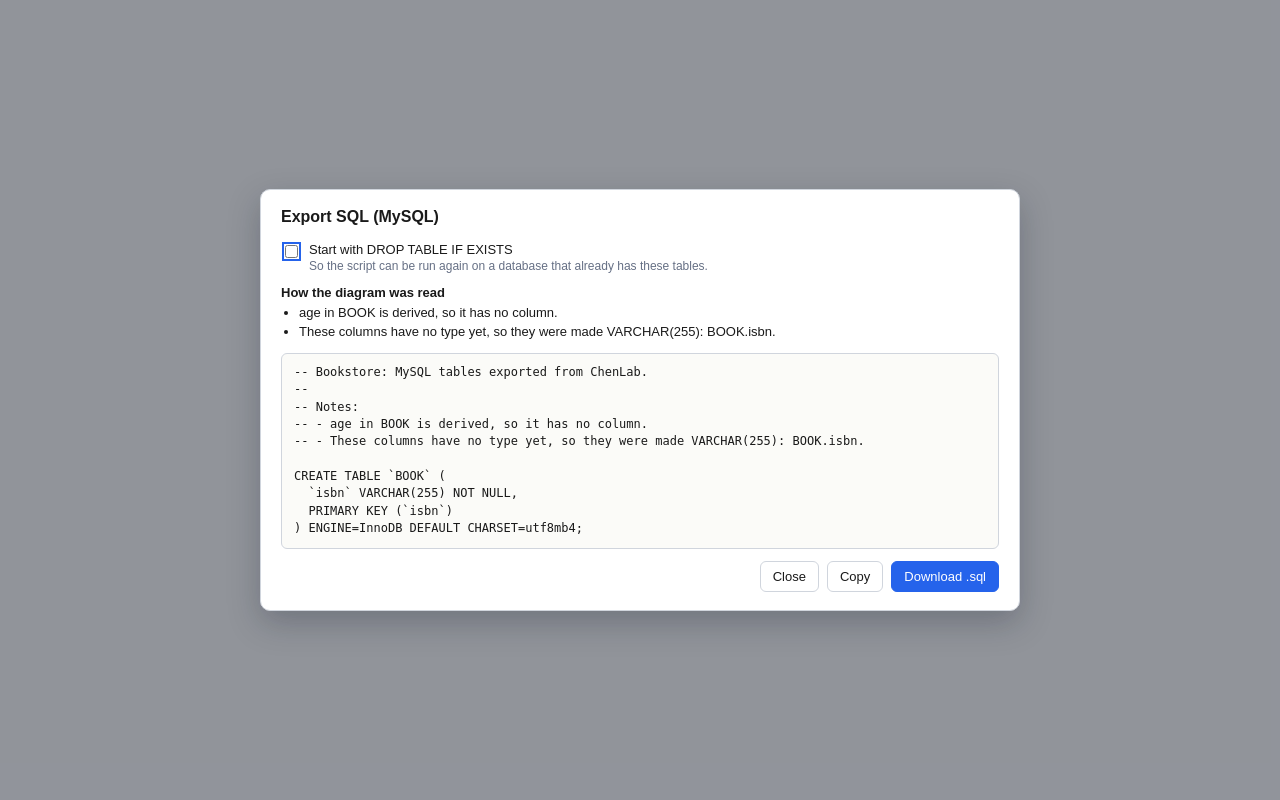
Test: SqlExportDialog › says so when the clipboard refuses
Click the button "Copy" at (855, 576), box [827, 561, 883, 592]
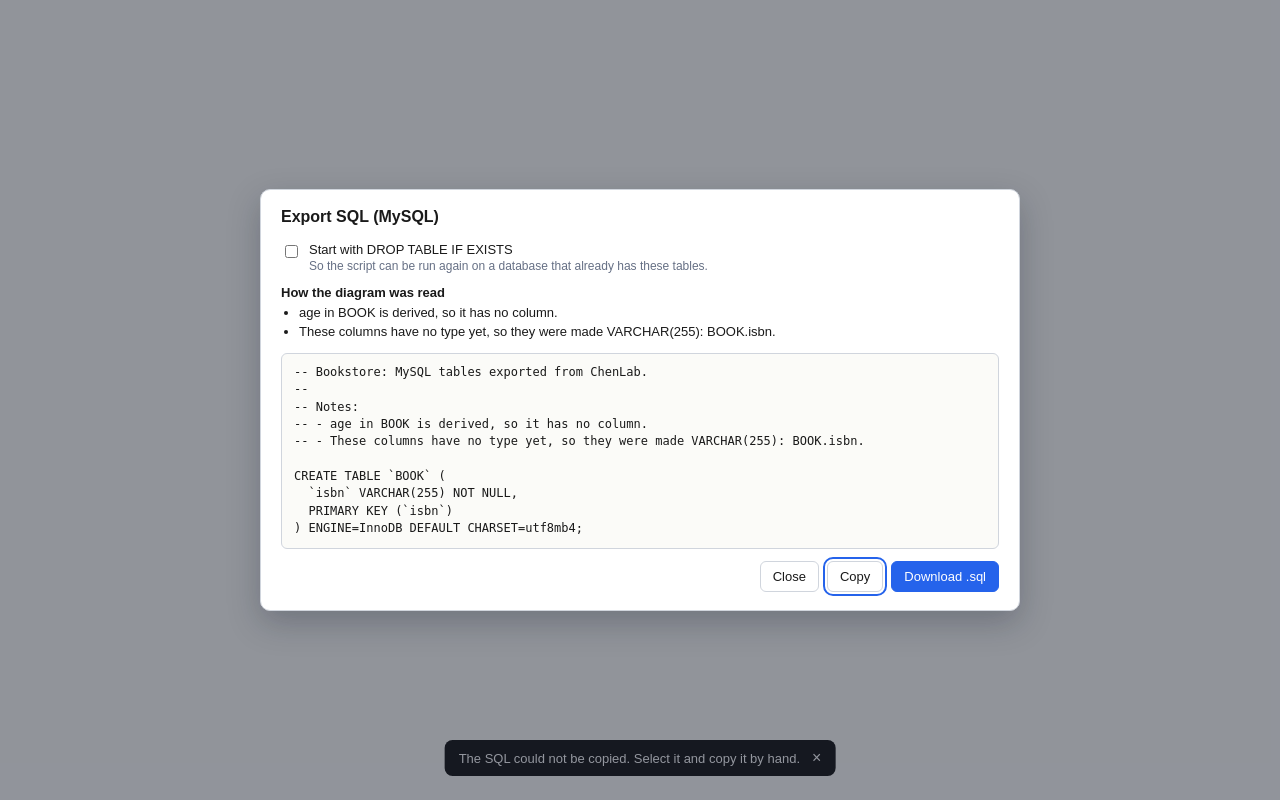
Expected: the text "The SQL could not be copied. Select it and copy it by hand." is shown, [459, 750, 800, 766]
